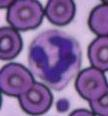N: (28, 28, 82, 90)
